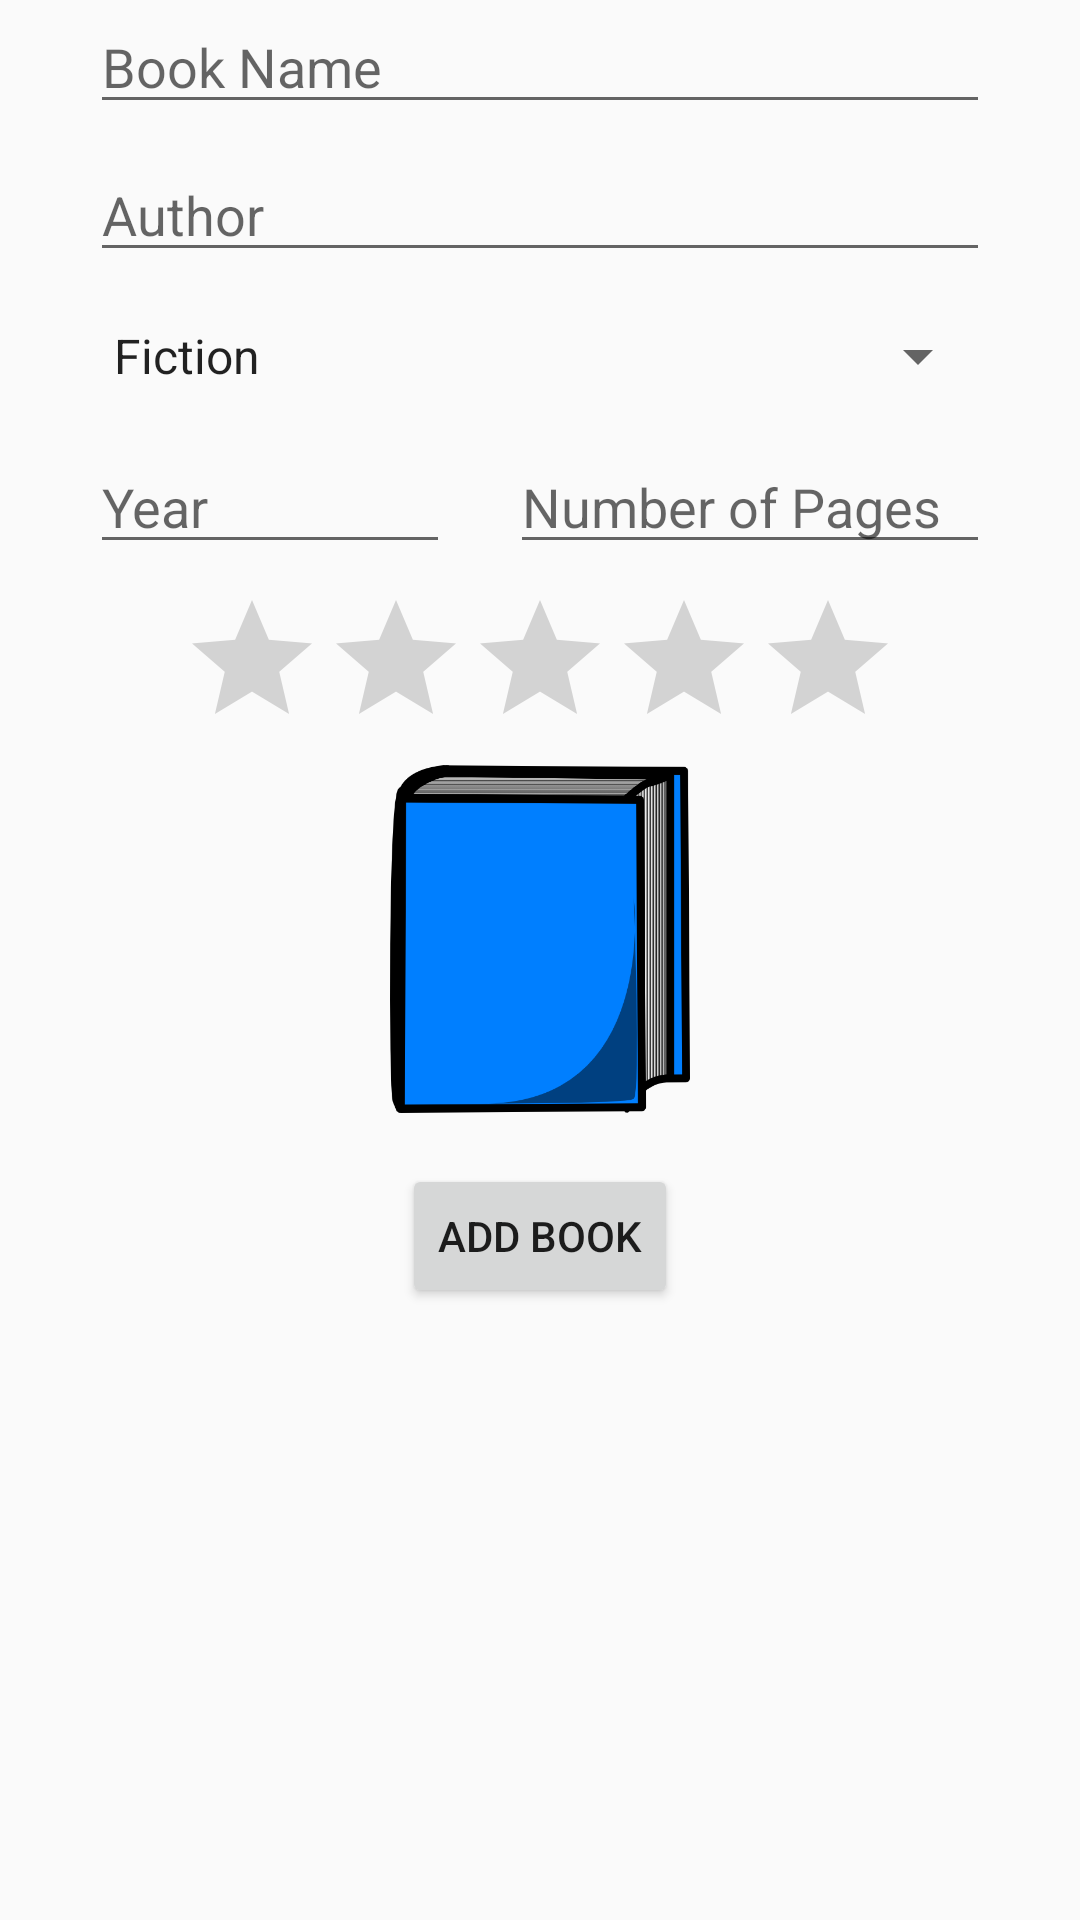

Screen size 1080*1920. Icon name, then its box in pixels as BBox(x1, y1, x2, y2):
bookcover: BBox(390, 765, 690, 1113)
